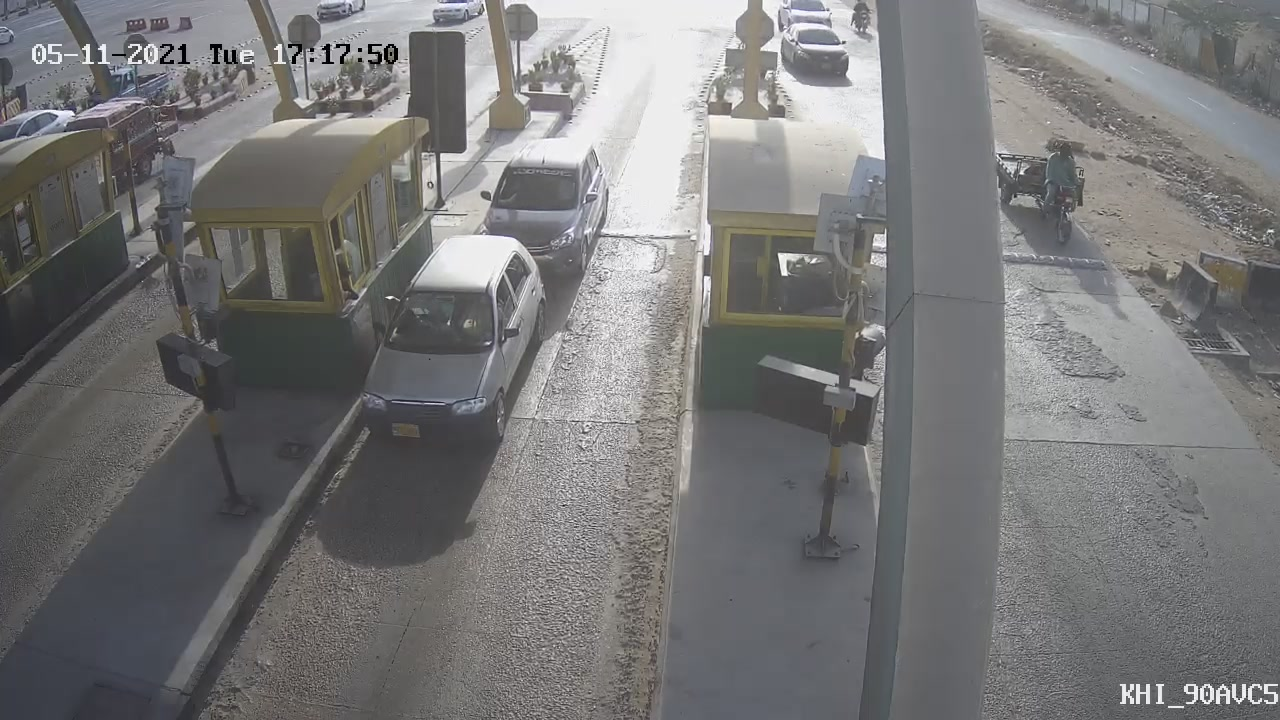F1: (339, 221, 566, 475), (460, 126, 624, 287)
